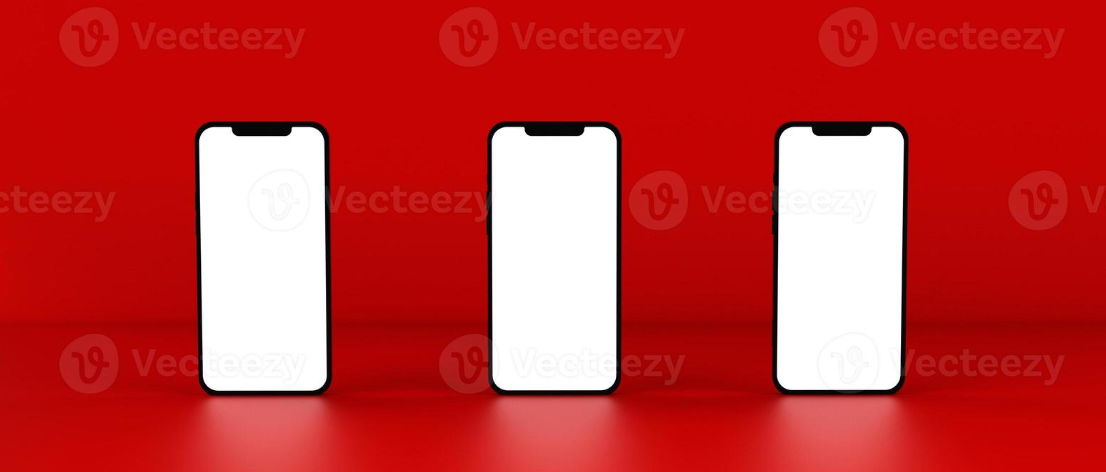Phone: (181, 103, 343, 412), (472, 103, 634, 412), (762, 103, 924, 412)
